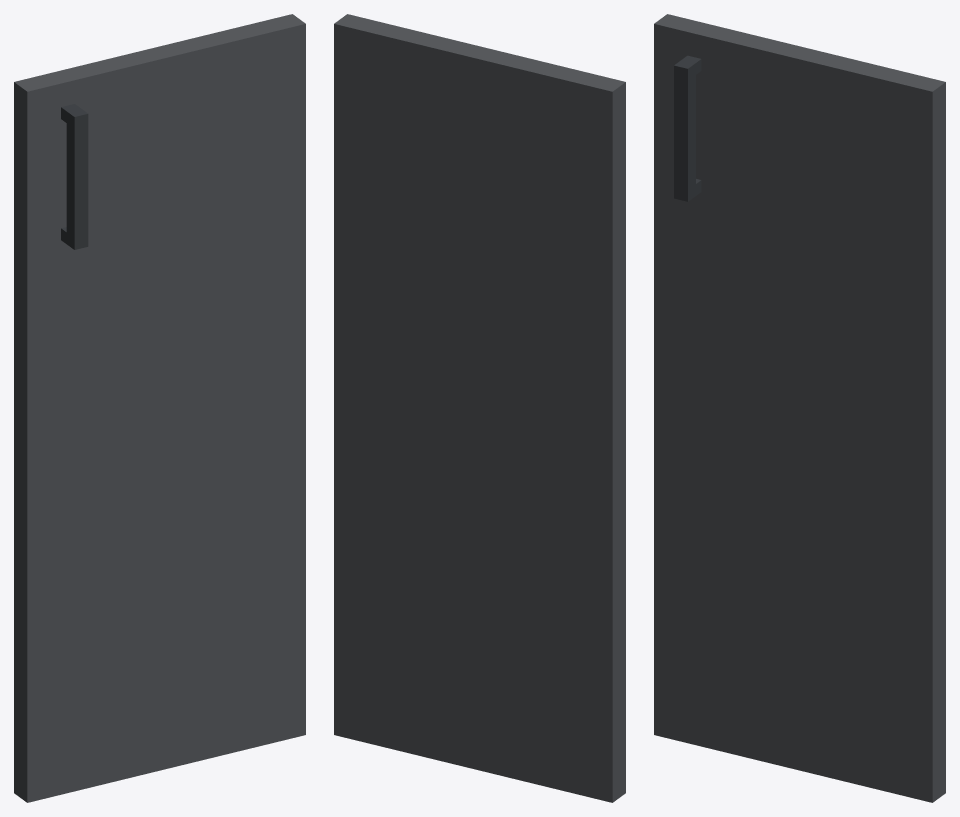
The model's file is BathroomDoor_C3_01.fbx.
The picture shows the model from 3 angles, left to right: view 1: azimuth 30°, elevation 25°; view 2: azimuth 150°, elevation 25°; view 3: azimuth 330°, elevation 25°; orthographic projection.
Parts seen in each view (by area): view 1: BathroomDoor_C3_01; view 2: BathroomDoor_C3_01; view 3: BathroomDoor_C3_01.
Boxes of the visible parts, left/top/right/bottom form: BathroomDoor_C3_01: left=14, top=14, right=305, bottom=802; BathroomDoor_C3_01: left=334, top=14, right=625, bottom=802; BathroomDoor_C3_01: left=654, top=14, right=945, bottom=802.
Bounding box in the file's own units: 30 × 73.19 × 5.03.
